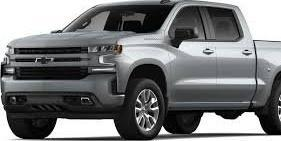Trucks: (1, 1, 281, 140)
